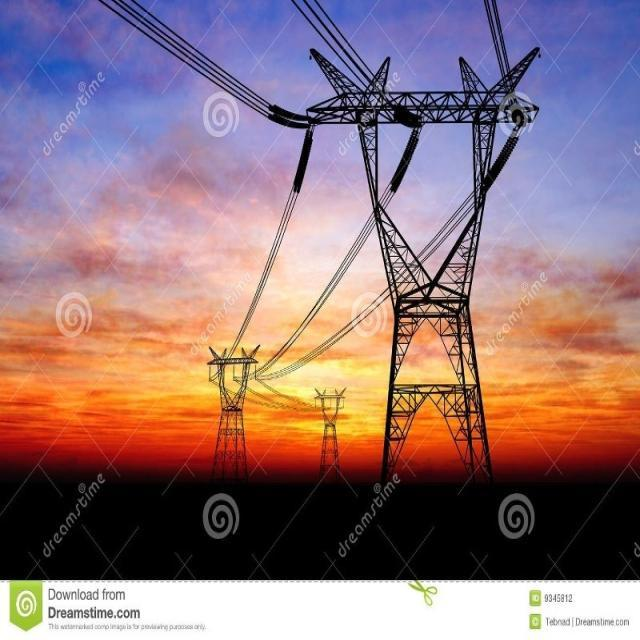non-critical vegetation: (292, 31, 533, 472), (204, 336, 266, 476), (314, 380, 344, 470)
